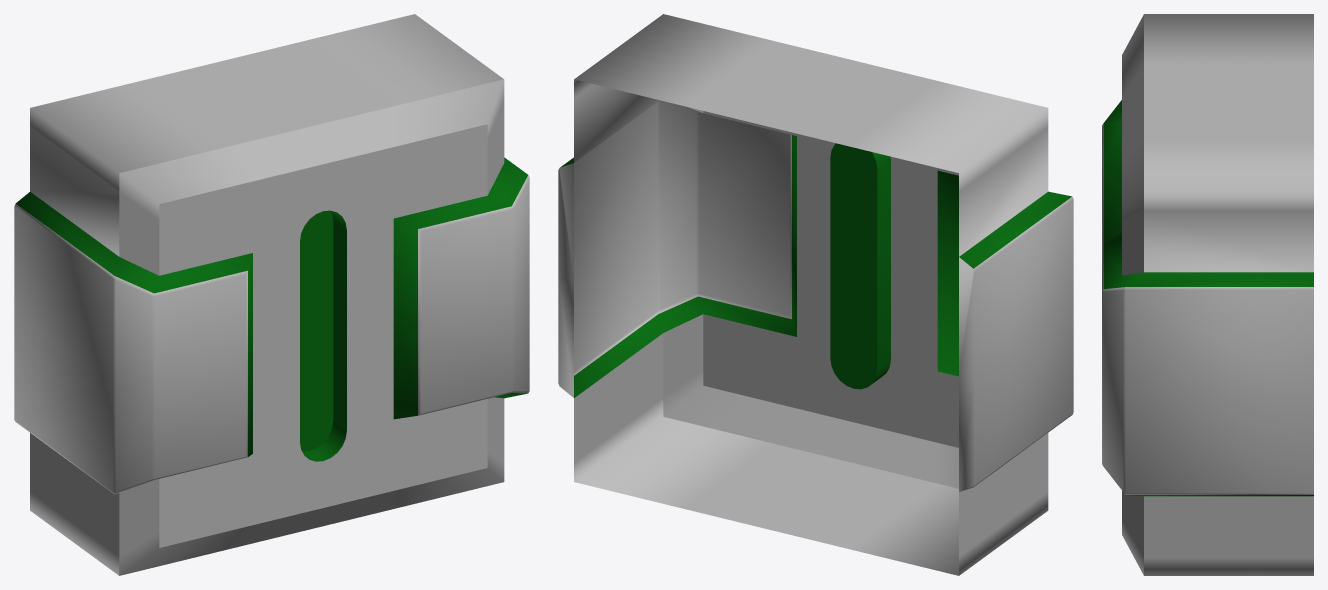
The model's file is Geo_Button_L2.fbx.
3 renders of one model, left to right at view 1: azimuth 30°, elevation 25°; view 2: azimuth 150°, elevation 25°; view 3: azimuth 270°, elevation 25°, orthographic. The views are drawn at different scales.
Parts seen in each view (by area): view 1: Geo_Button1; view 2: Geo_Button1; view 3: Geo_Button1.
Part boxes in pixels (x1,y1,x2,y2): Geo_Button1: (14,14,529,575); Geo_Button1: (558,14,1073,575); Geo_Button1: (1102,14,1313,575).
Size of the model in its own units: 17.75 by 16.4 by 8.22.
